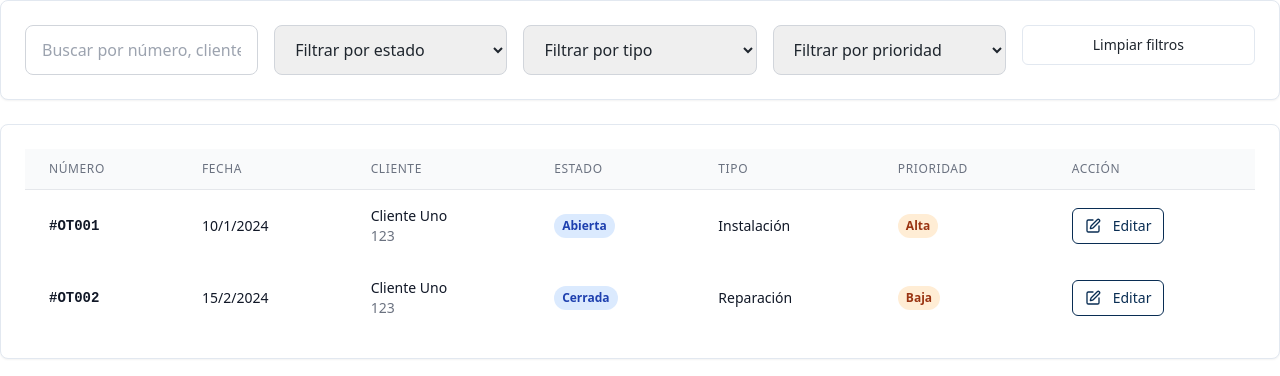
it: OrdersTable › filtra por tipo de actividad
The width and height of the screenshot is (1280, 376).
Select "Instalación" in the 2nd dropdown at point(640, 50), box [523,25,757,75]
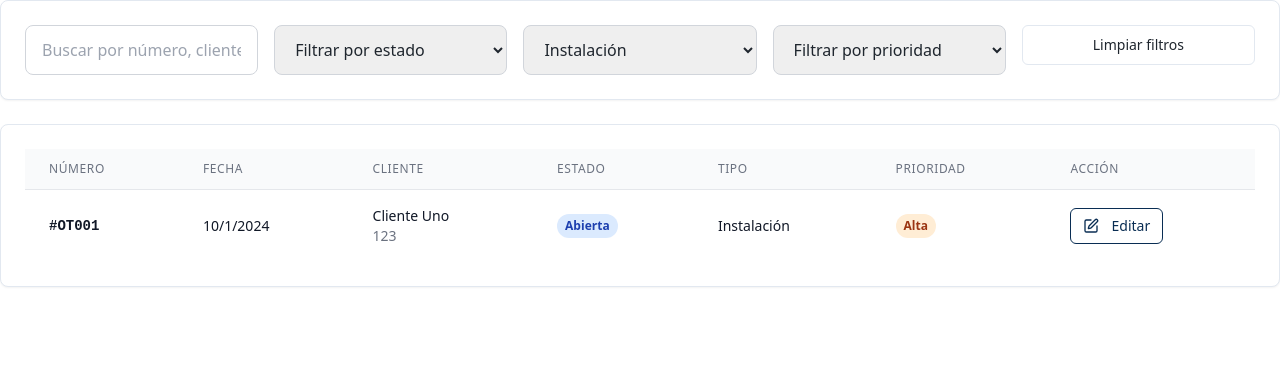
Expected: the text "#OT001" is shown, [25,190,179,262]
Expected: the text "#OT002" is gone
